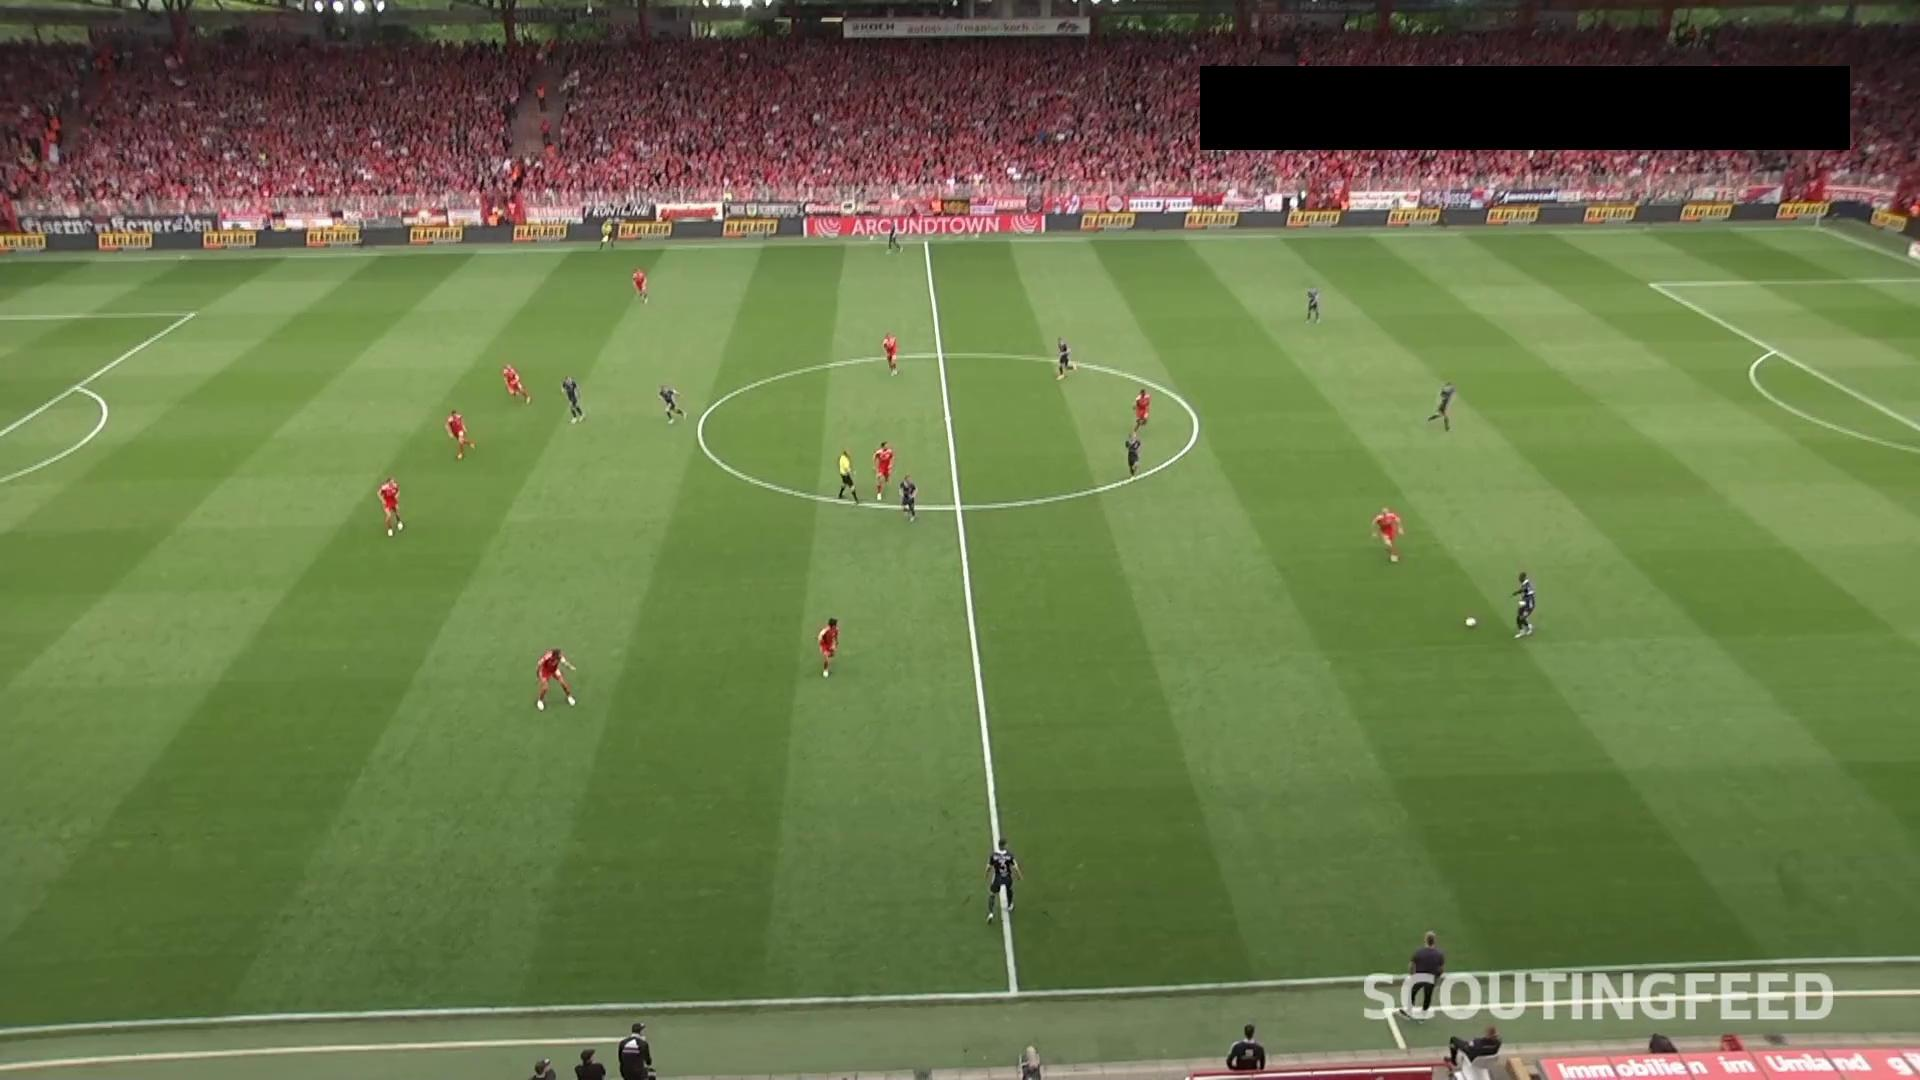Location-of-ball: (1456, 612, 1480, 636)
